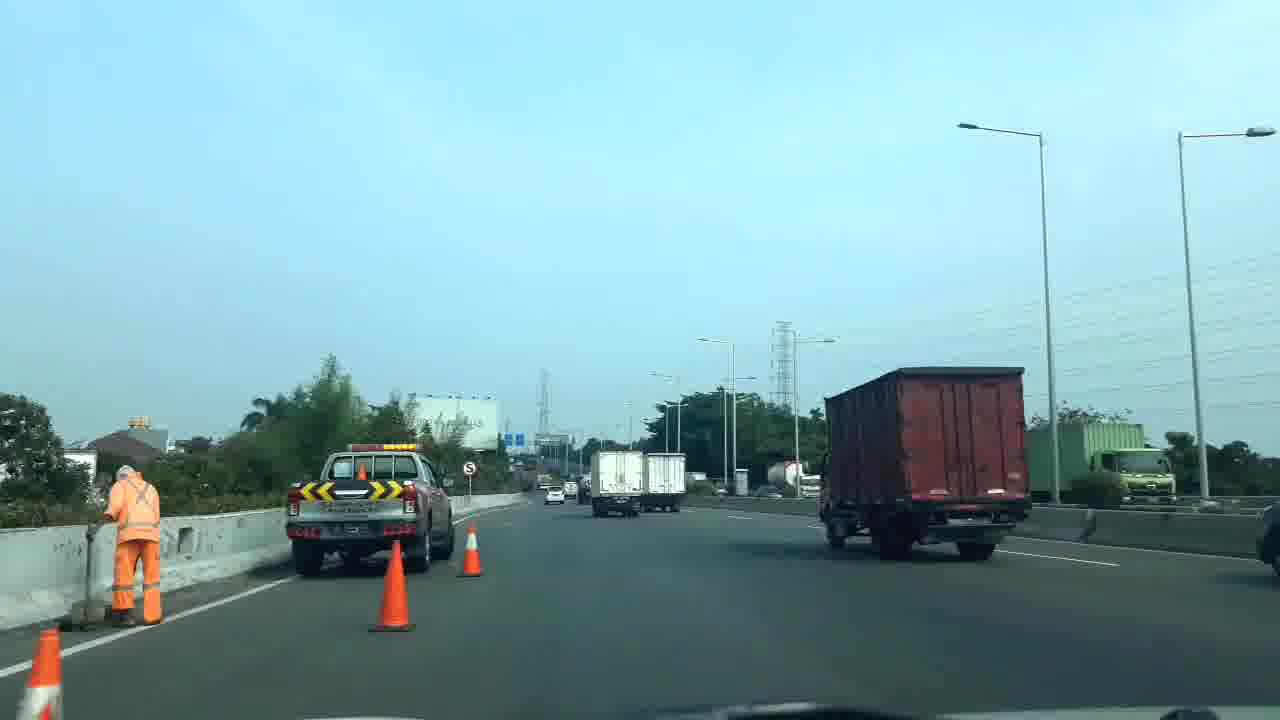plate_positive: (950, 515, 992, 527)
